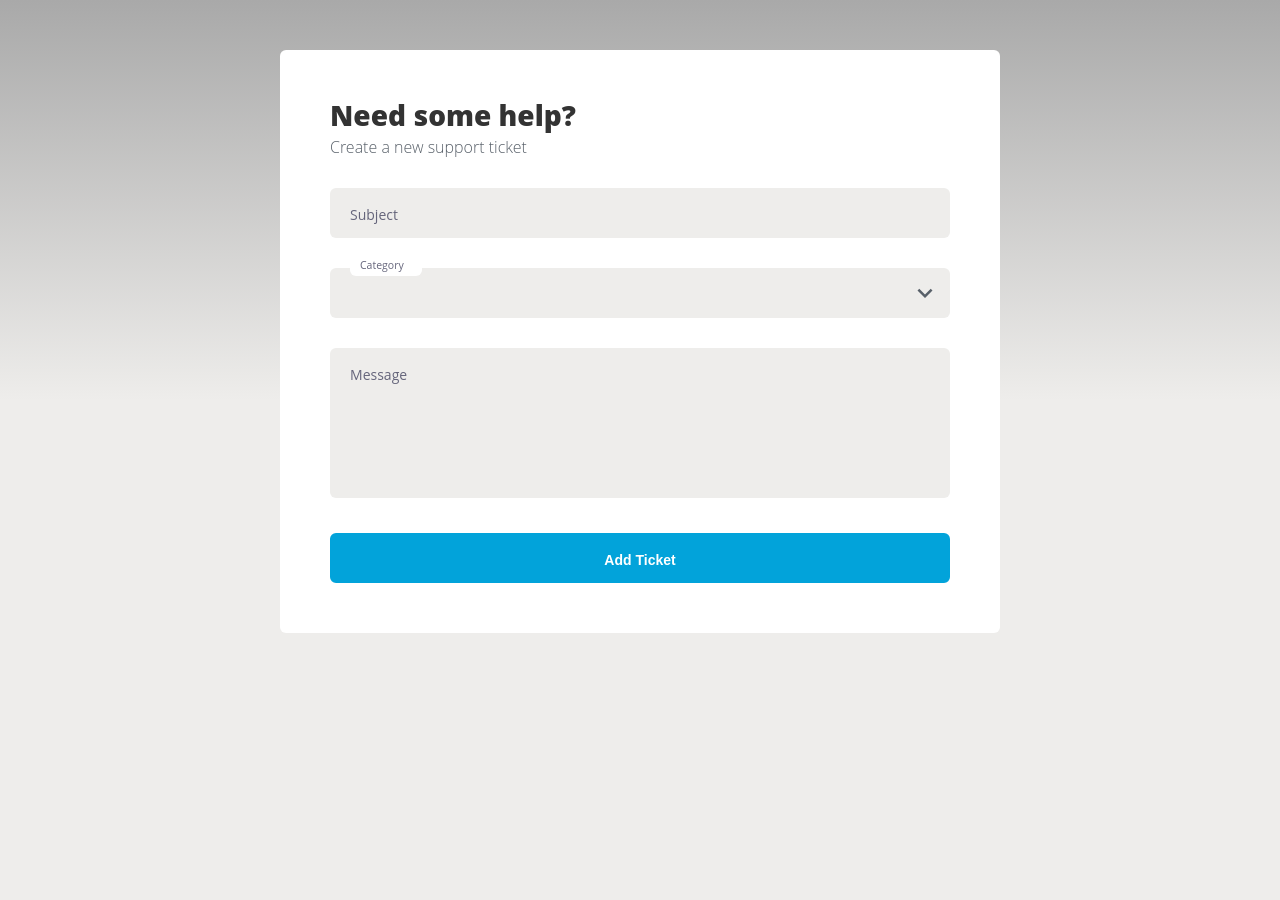
NewTicket › should display API error messages when unsuccessful
The image size is (1280, 900).
Type "Connection issue" into the field named "Subject". click: x=640, y=213
box: [330, 188, 950, 238]
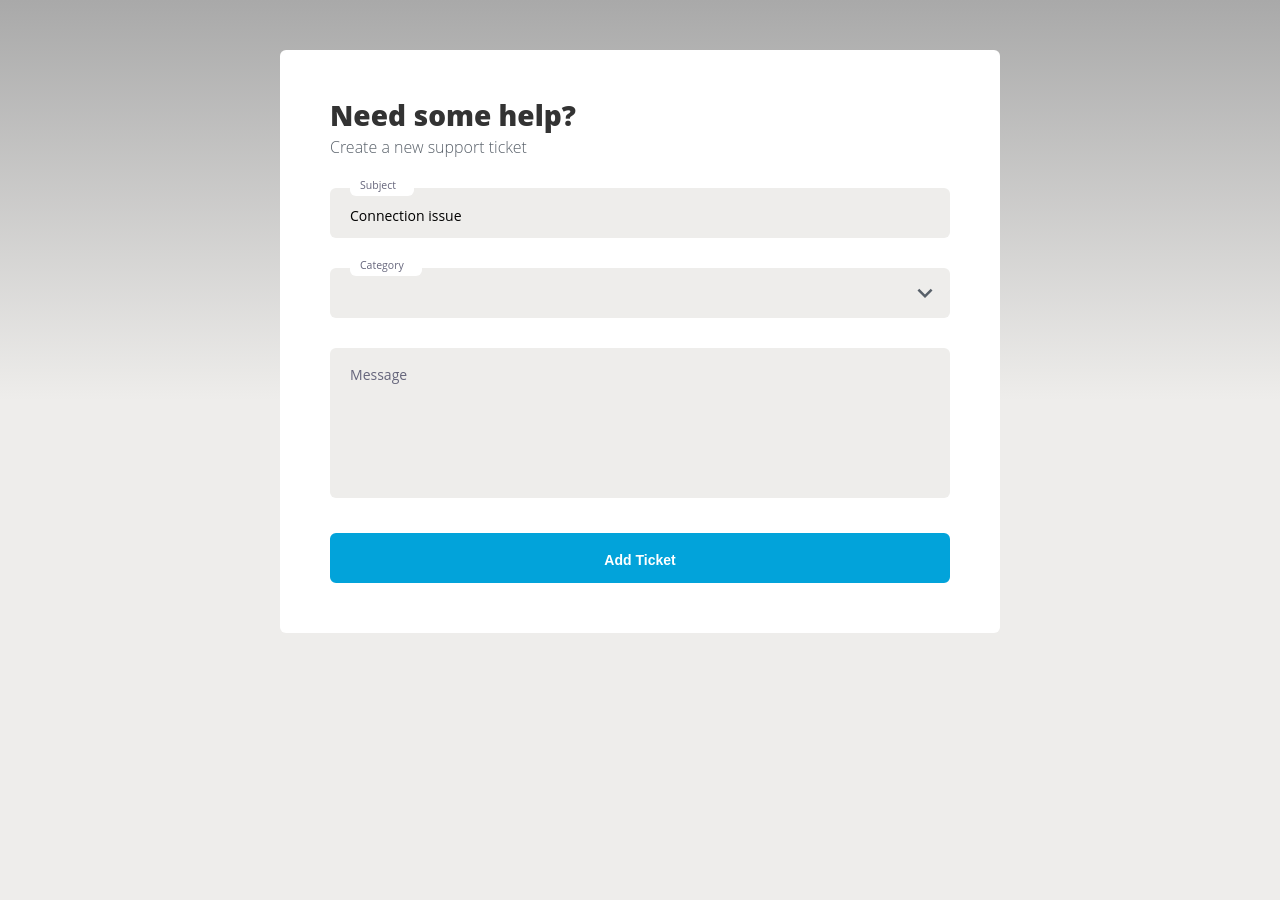
Select "Bugfix" in the dropdown named "Category". click: x=640, y=293
box: [330, 268, 950, 318]
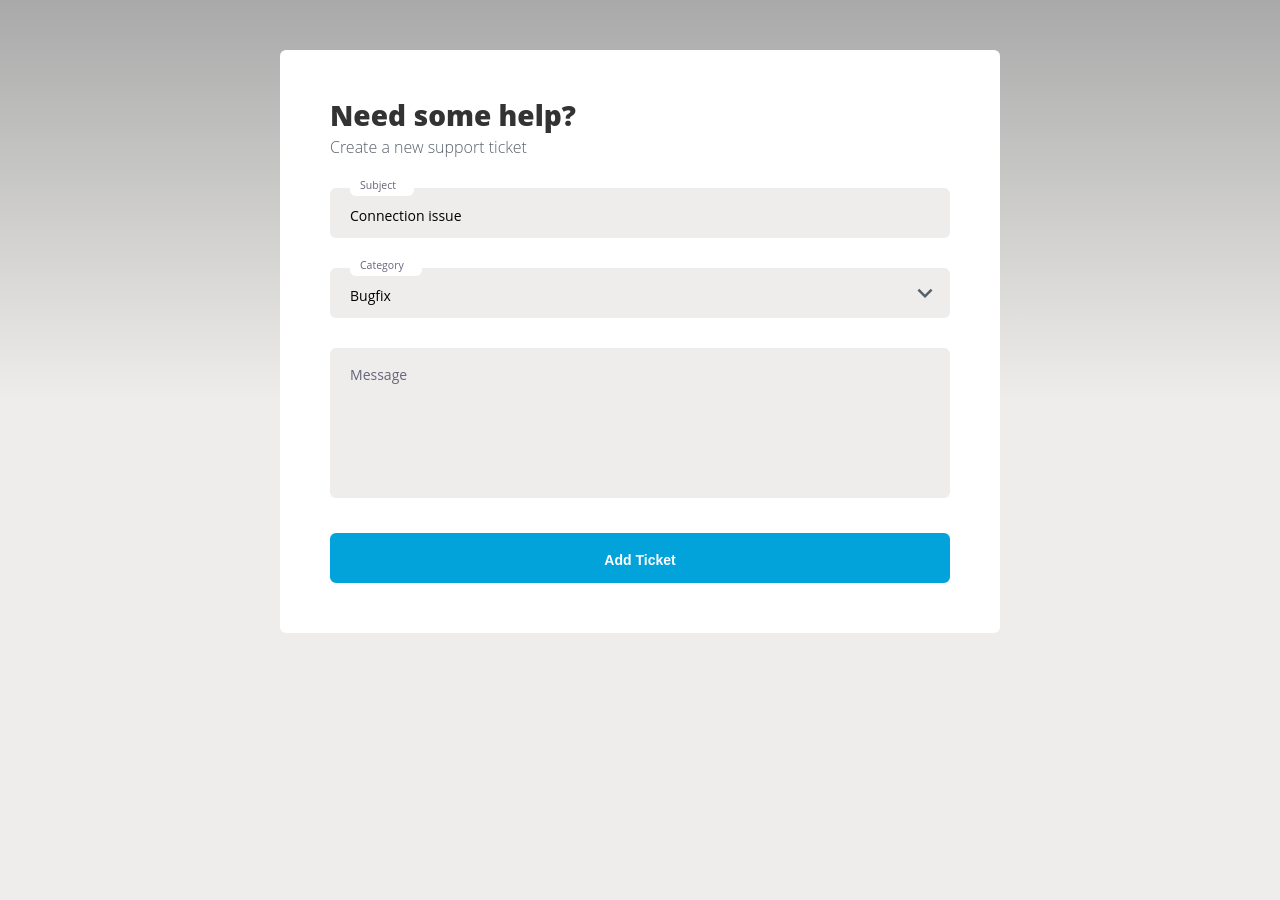
Type "I can't connect to scaler anymore" into the text box named "Message". click: x=640, y=423
box: [330, 348, 950, 498]
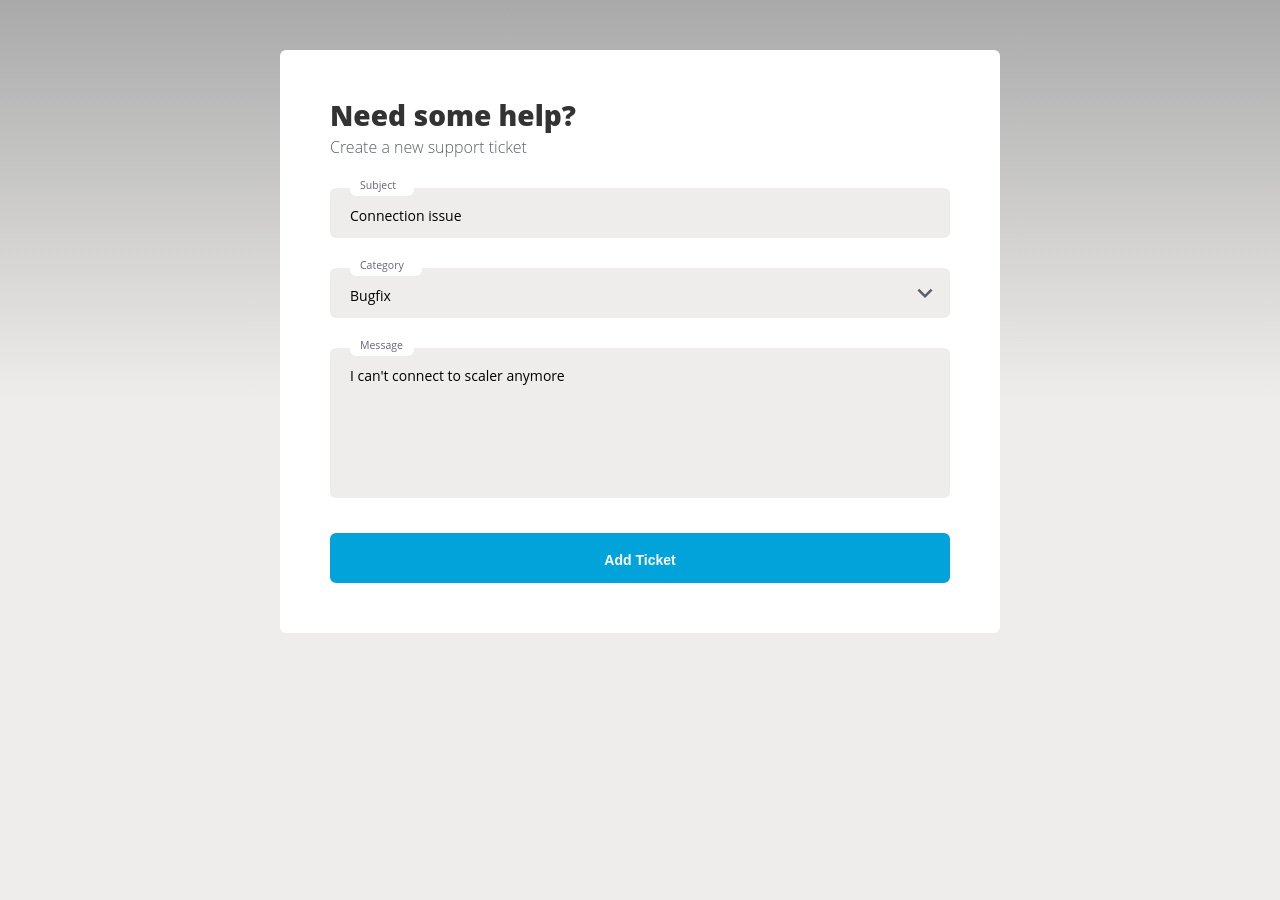
Click the button "Add Ticket". click: x=640, y=558
box: [330, 533, 950, 583]
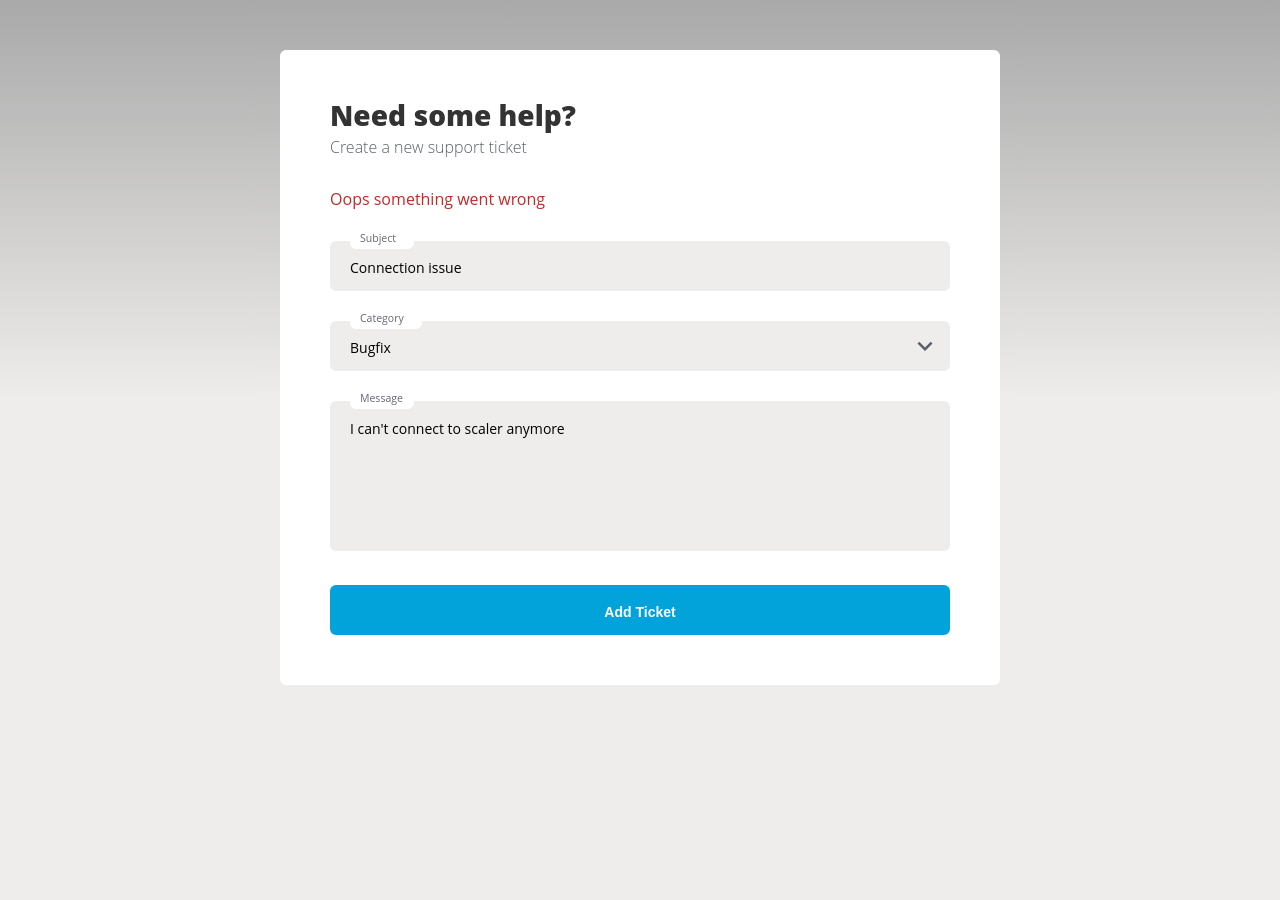
Expected: the text "Oops something went wrong" is shown, [330, 188, 545, 210]
